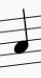A: (11, 5, 30, 69)
